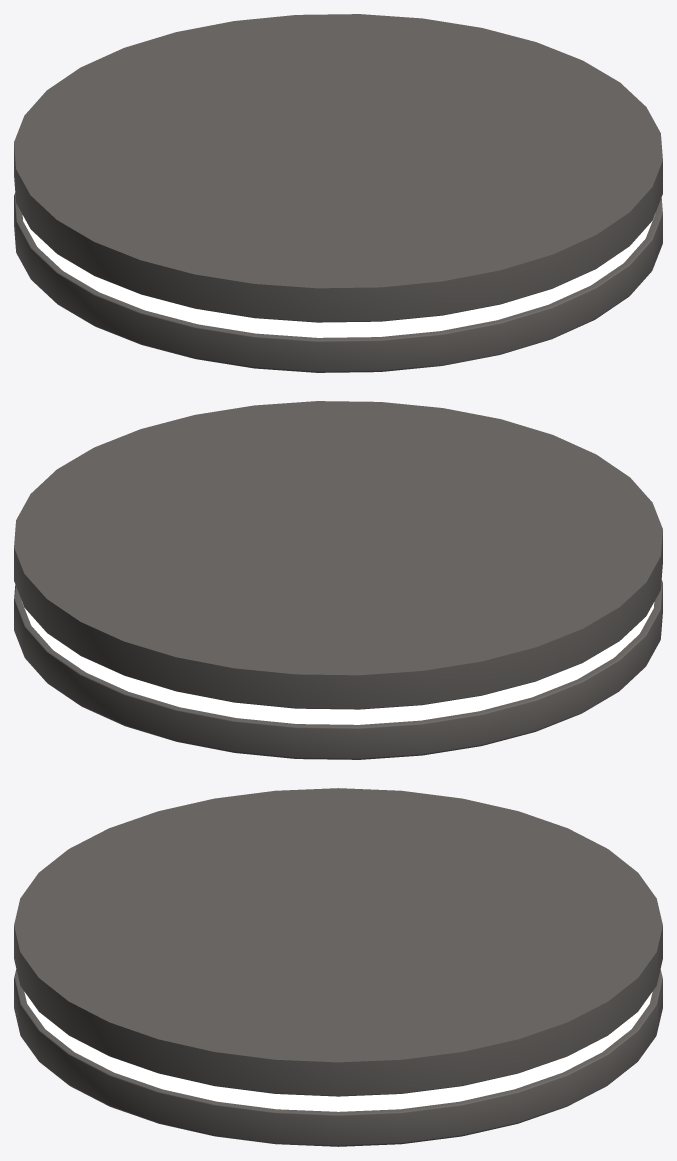
3 renders of one model, top to bottom at view 1: azimuth 30°, elevation 25°; view 2: azimuth 150°, elevation 25°; view 3: azimuth 270°, elevation 25°, orthographic.
Parts seen in each view (by area): view 1: lamp_01; view 2: lamp_01; view 3: lamp_01.
Boxes of the visible parts, box(x1,y1,x2,y2) form: lamp_01: box(14, 14, 662, 372); lamp_01: box(14, 401, 662, 759); lamp_01: box(14, 788, 662, 1146).
Bounding box in the file's own units: 2 × 0.2904 × 2.
